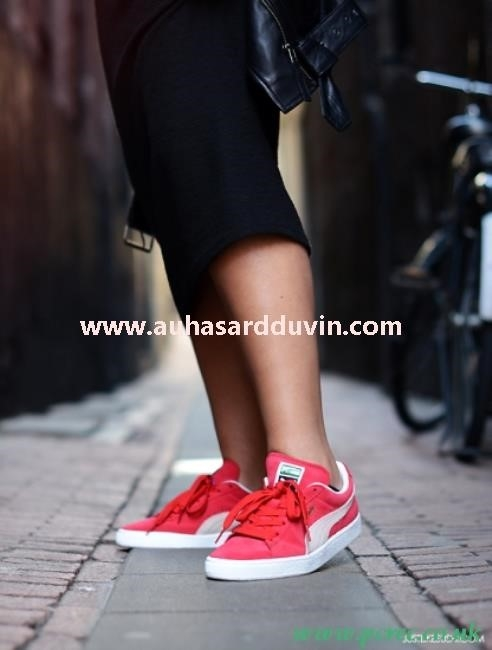Puma Suede Low Red: (202, 448, 366, 578), (117, 448, 279, 559)
